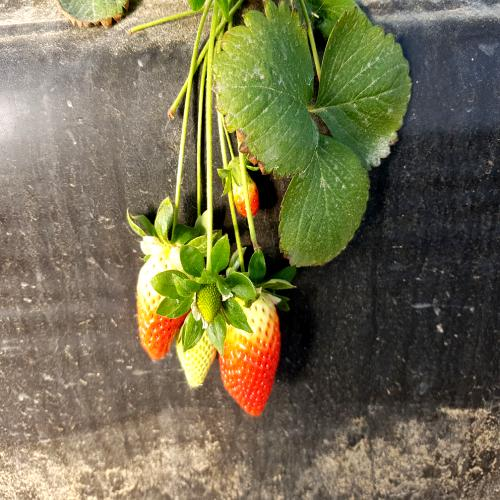partially-ripe: (223, 287, 282, 421), (136, 227, 188, 368)
